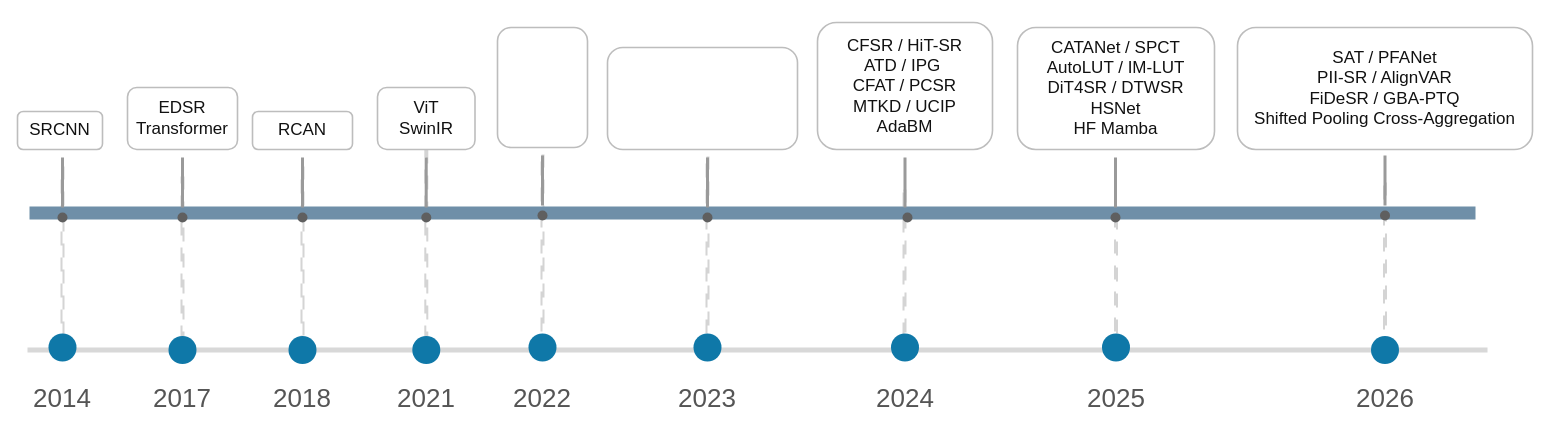
This 1551x433 diagram has some shape labels left out. The shapes that lost their labels are listed below. From the top down, each one's centre as x and y in pixels, then its label:
the point at 542,87: ELAN RLFN BSRN FMEN RepSR
the point at 702,98: HAT / DAT / CRAFT NGswin / Omni-SR SPIN
